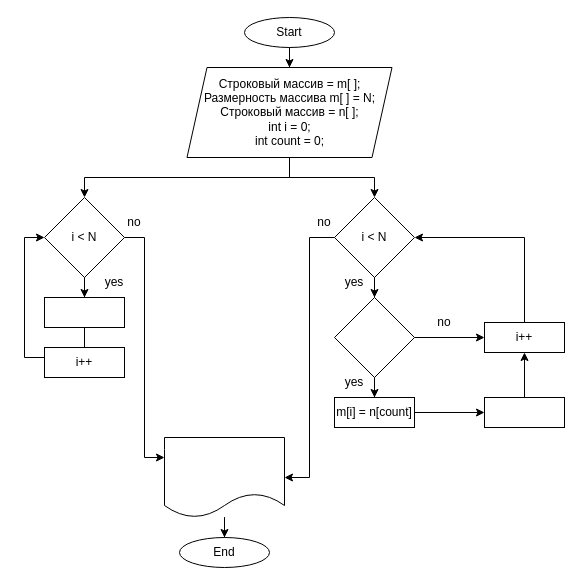
Some shapes in this 582 by 585 pixel diagram are drawn without their labels. Here are the shapes that lost their labels. From the top down, the box of each, then its label:
(44, 296, 124, 328): m[i] = m[i+1]
(334, 296, 414, 378): m[i] <= 3
(484, 396, 564, 428): j++
(164, 436, 284, 518): m[i]; n[count]
